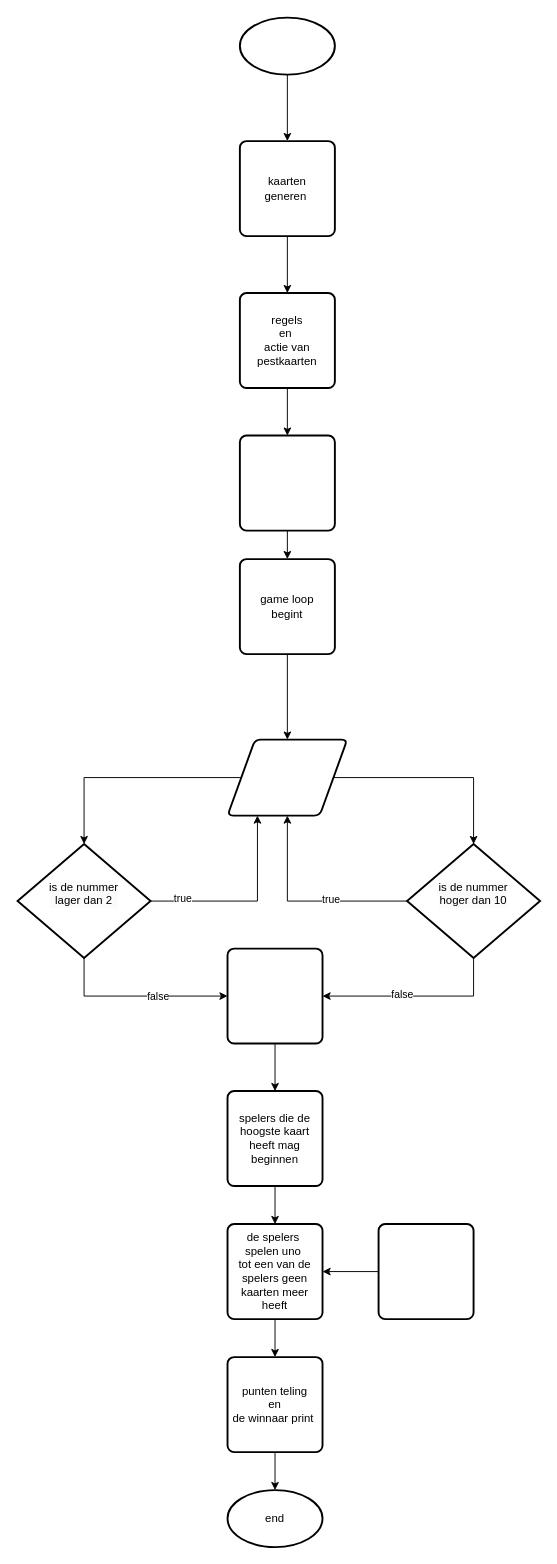
This 557x1564 diagram has some shape labels left out. Each missing label, with the centre of its shape:
"ai volgorden" belongs at (x=286, y=482).
"houd bij of de kaarten moet worden geschud" belongs at (x=425, y=1271).
"maakt de spelers en laat elk spelers een kaart treken" belongs at (x=274, y=995).
"run file" belongs at (x=286, y=45).
"vraagt naar hoeveel spelers (int)" belongs at (x=287, y=777).
